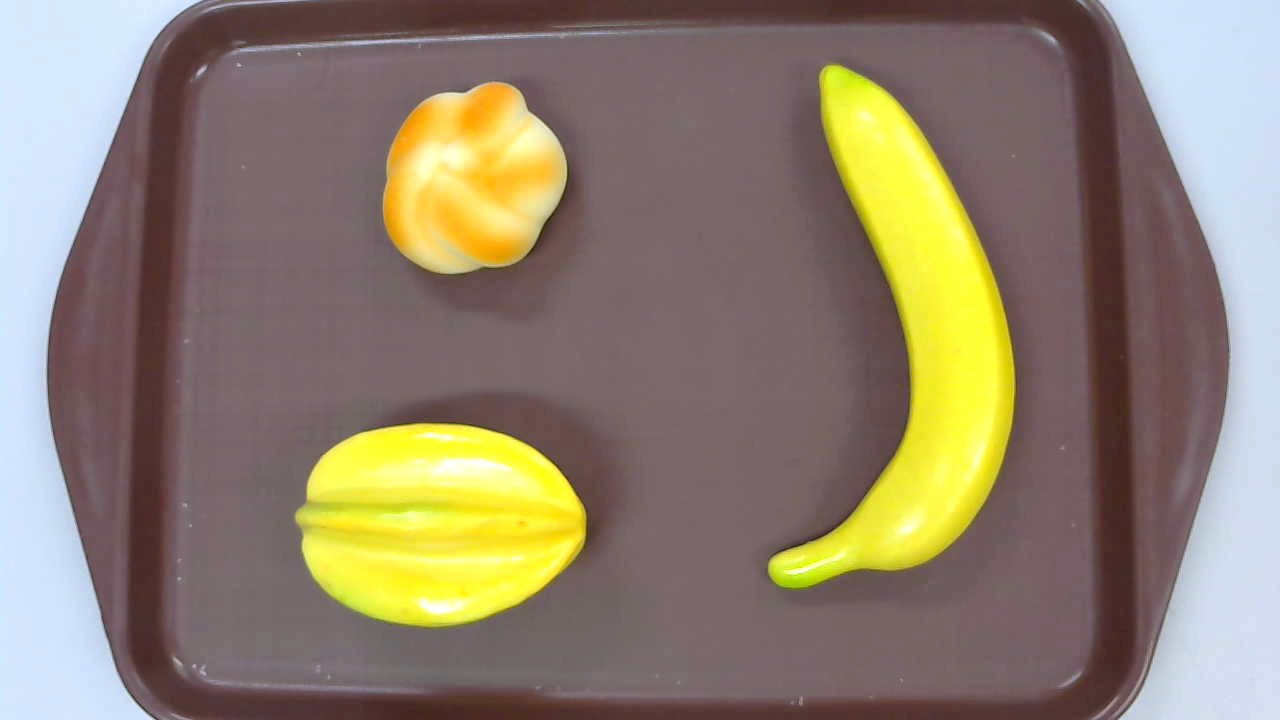banana: (766, 63, 1015, 590)
star fruit: (294, 423, 589, 627)
twist bread: (380, 81, 568, 275)
